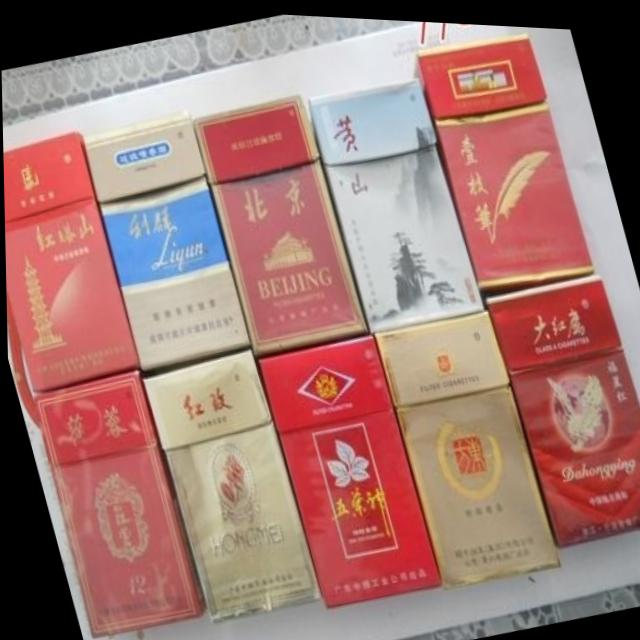box: (374, 304, 557, 585), (255, 333, 438, 605), (141, 345, 320, 621), (412, 26, 594, 292), (193, 90, 367, 356), (32, 370, 203, 637), (309, 73, 485, 330), (83, 110, 251, 374), (484, 265, 640, 542), (3, 131, 138, 392)
